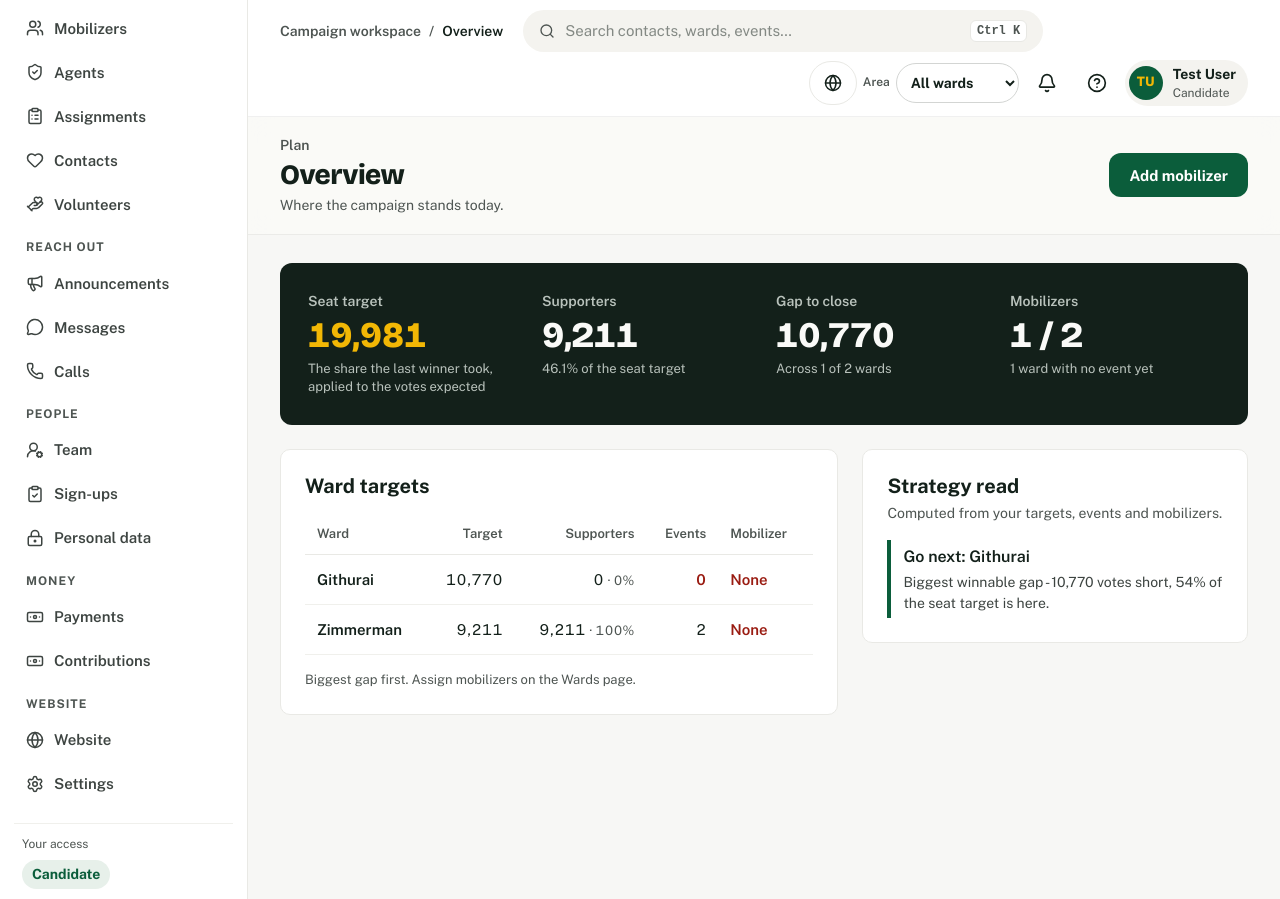
the team page › offers the candidate no password reset
(page scrolled)
Click the link "Team". click: [59, 450]
box: [26, 441, 92, 459]
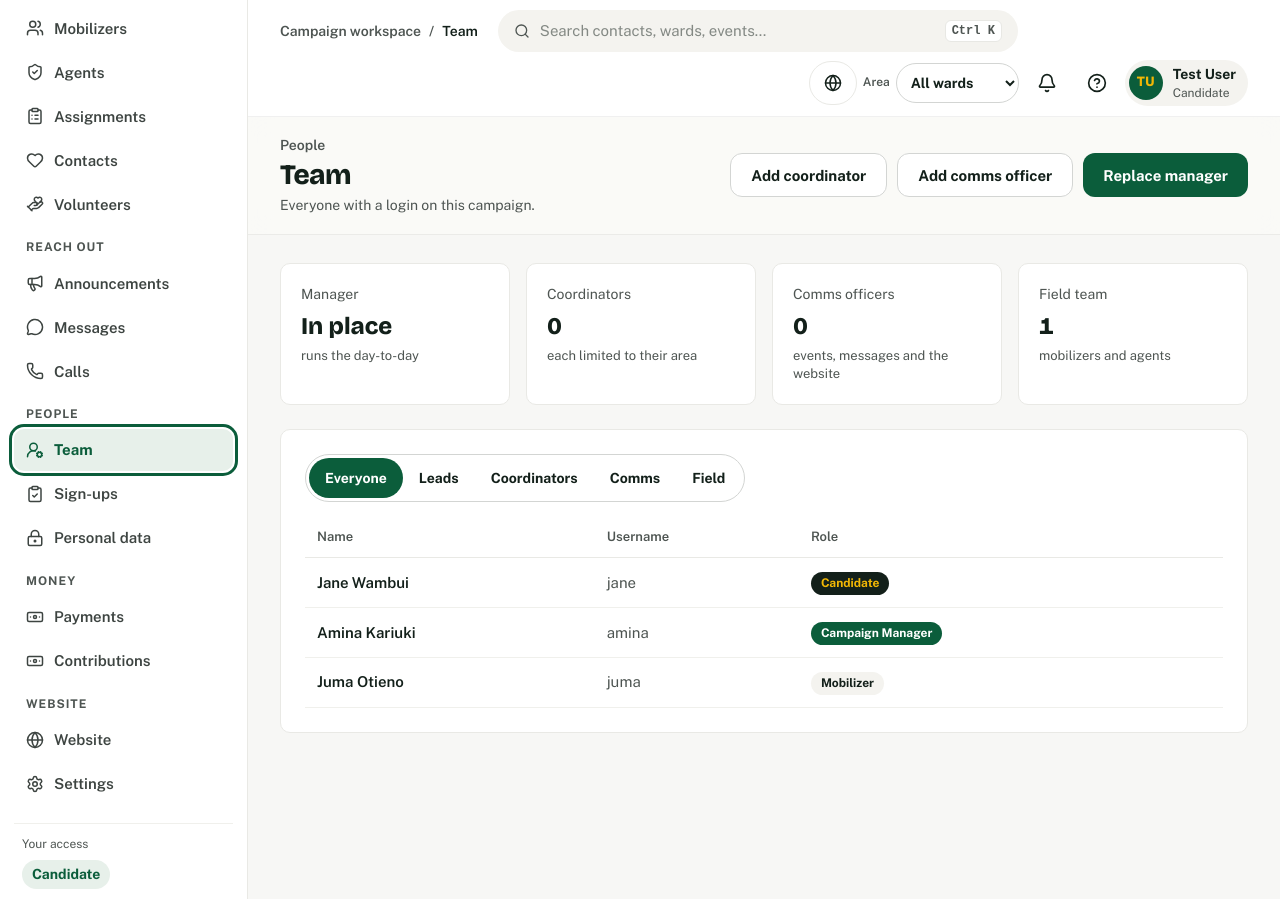
Expected: the text "Amina Kariuki" is shown, [305, 607, 595, 657]
Expected: the number of buttons "Replace manager" is 1, [1083, 153, 1248, 197]
